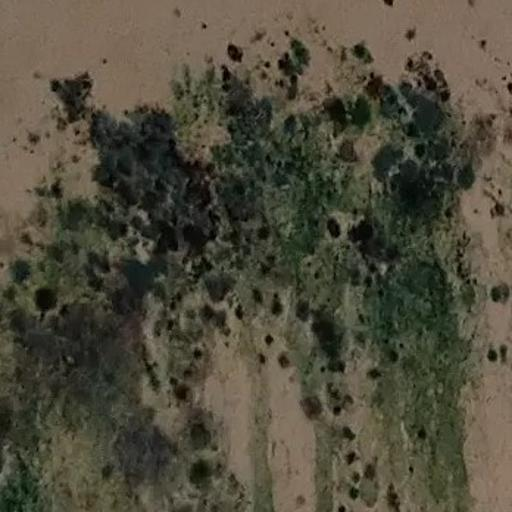algae: (0, 59, 512, 511)
